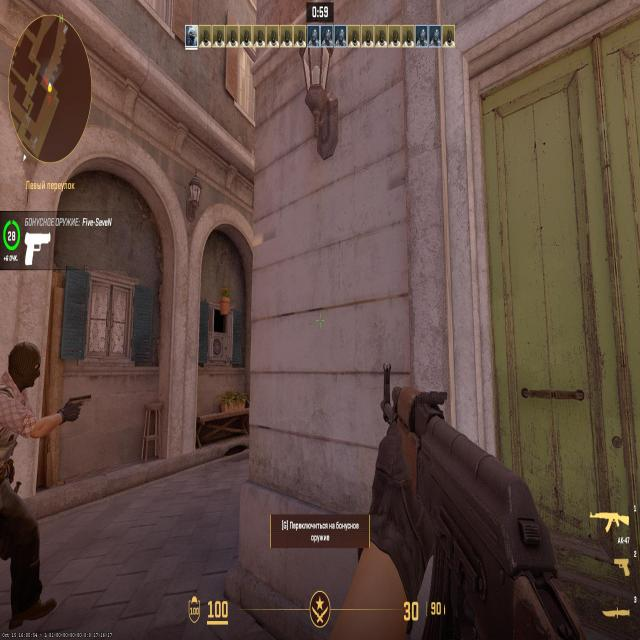T: (0, 349, 37, 558)
T_heat: (14, 351, 26, 380)
